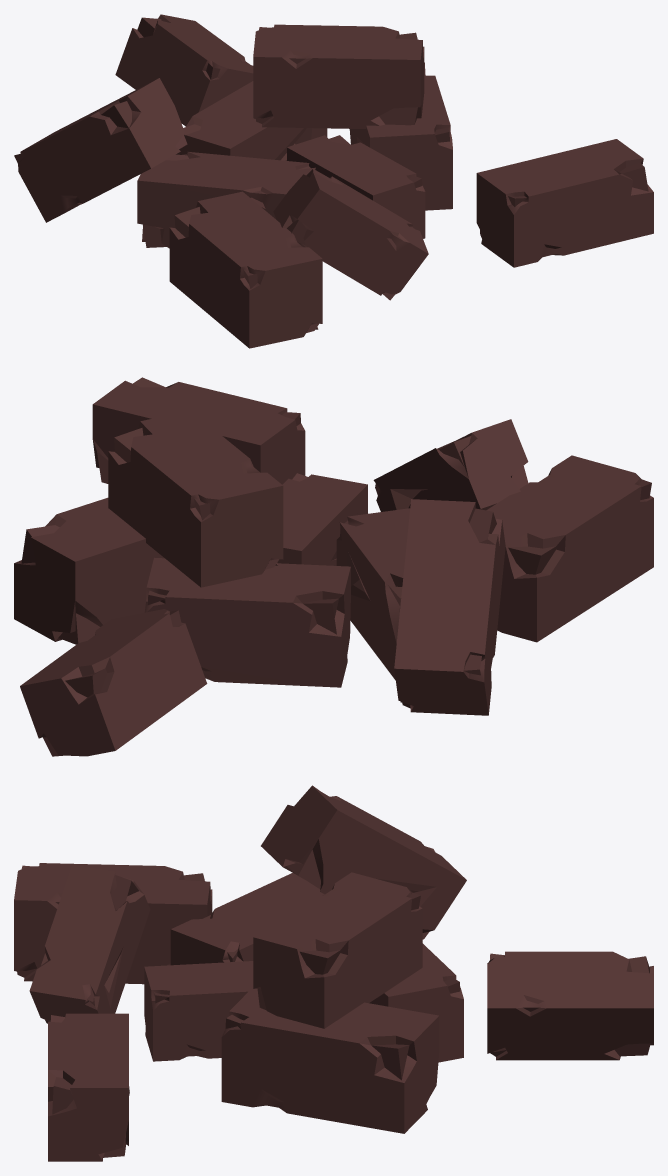
File: 48_brick_pile3.fbx
The picture shows the model from 3 angles, top to bottom: view 1: azimuth 30°, elevation 25°; view 2: azimuth 150°, elevation 25°; view 3: azimuth 270°, elevation 25°; orthographic projection. The views are drawn at different scales.
Parts seen in each view (by area): view 1: pCube83; view 2: pCube83; view 3: pCube83.
Boxes of the visible parts, bbox=[...] form: pCube83: bbox=[14, 14, 653, 348]; pCube83: bbox=[14, 377, 653, 756]; pCube83: bbox=[14, 785, 653, 1161].
Size of the model in its own units: 1.31 by 0.4128 by 1.44.
